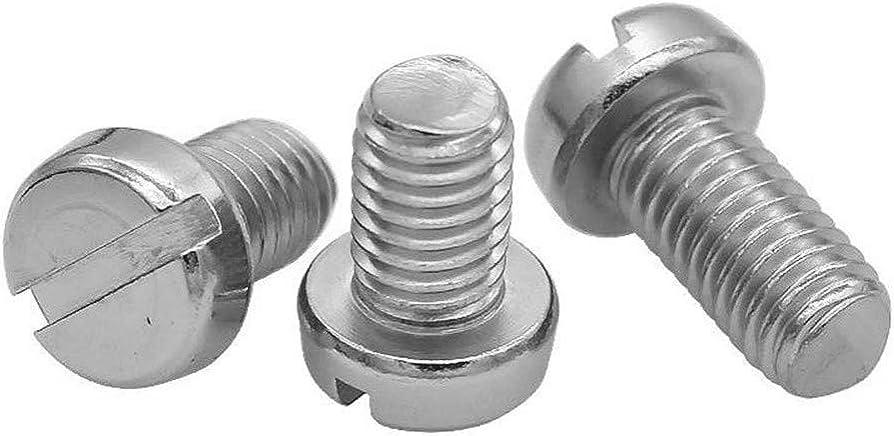slotted: (5, 126, 254, 390)
